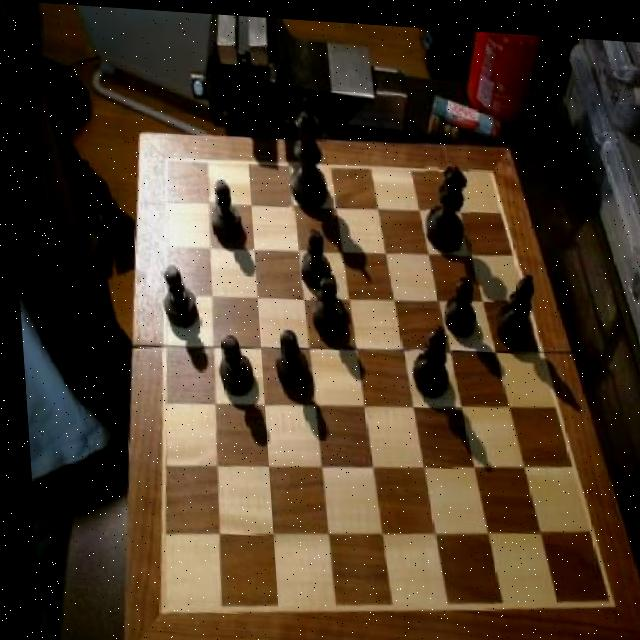bishop: (489, 262, 539, 347), (401, 314, 449, 399)
black-bishop: (281, 93, 330, 211)
black-knight: (157, 265, 197, 334), (211, 330, 251, 399), (268, 323, 306, 391), (205, 176, 244, 242), (437, 267, 476, 331), (294, 223, 330, 289), (304, 269, 340, 335)
black-pawn: (419, 154, 470, 251)
